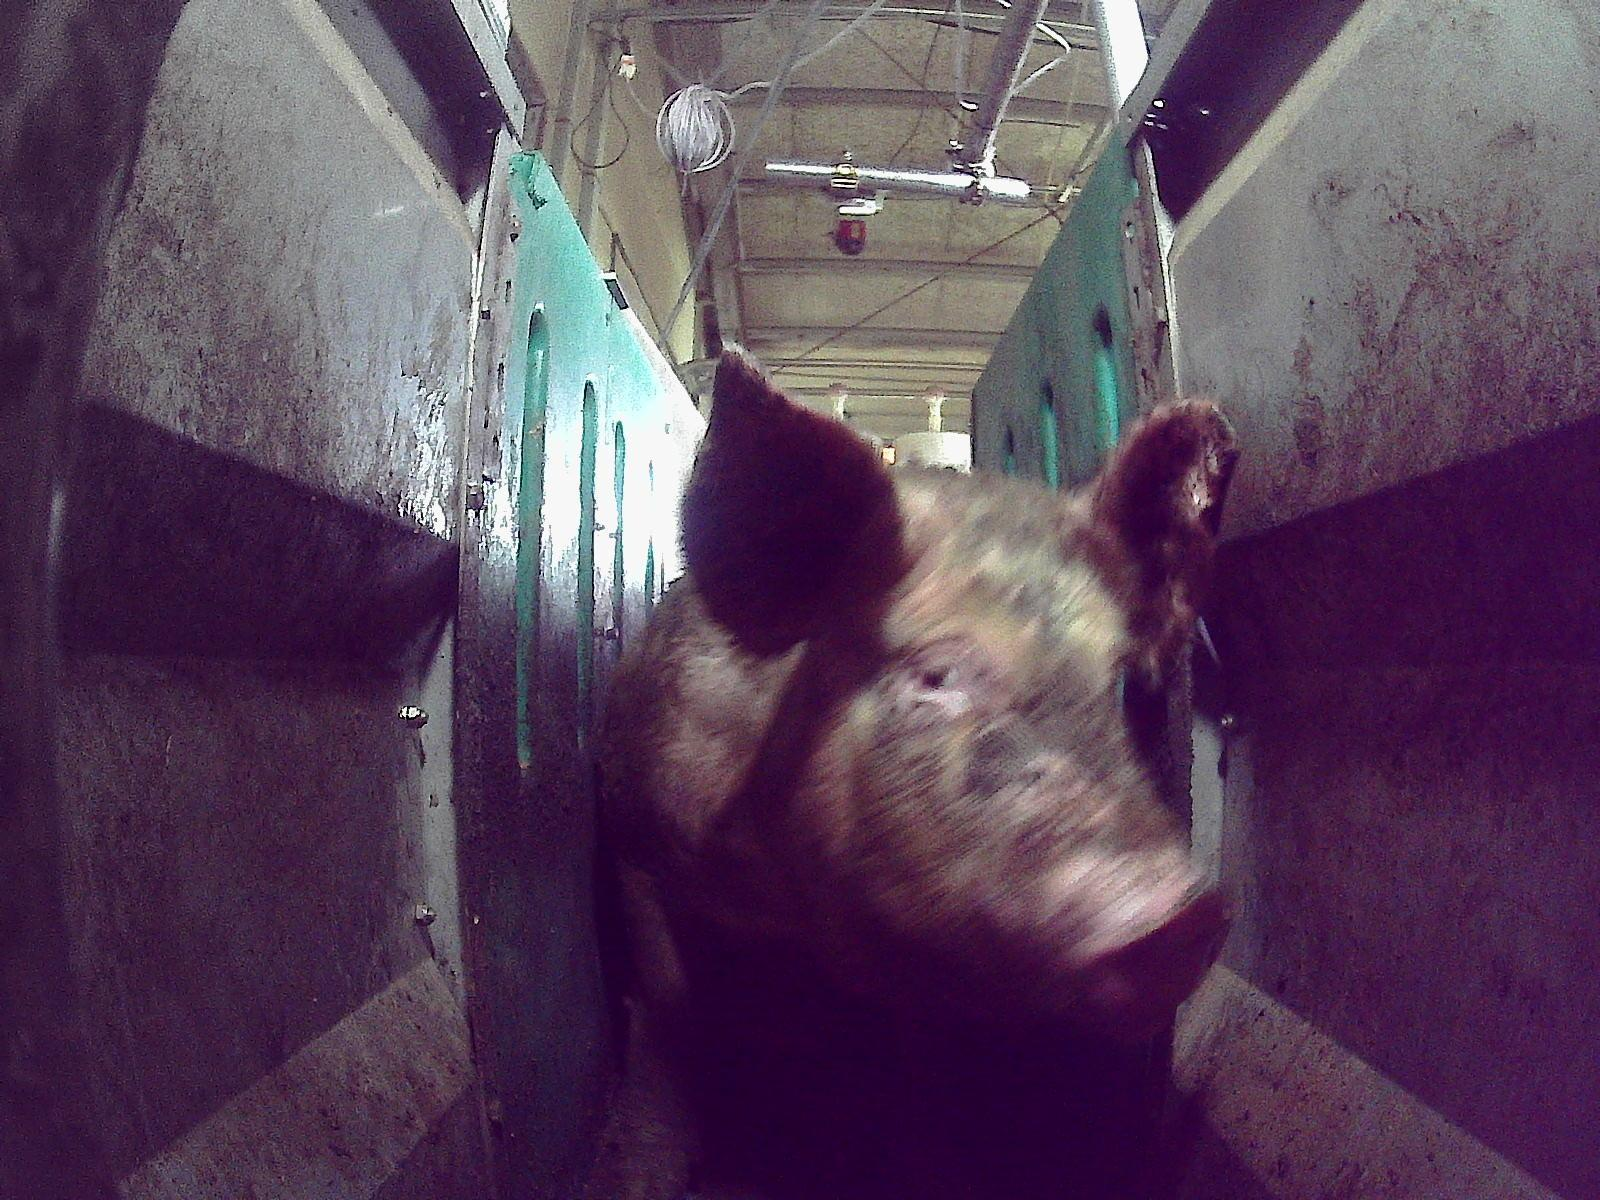Face: (754, 469, 1238, 1050)
